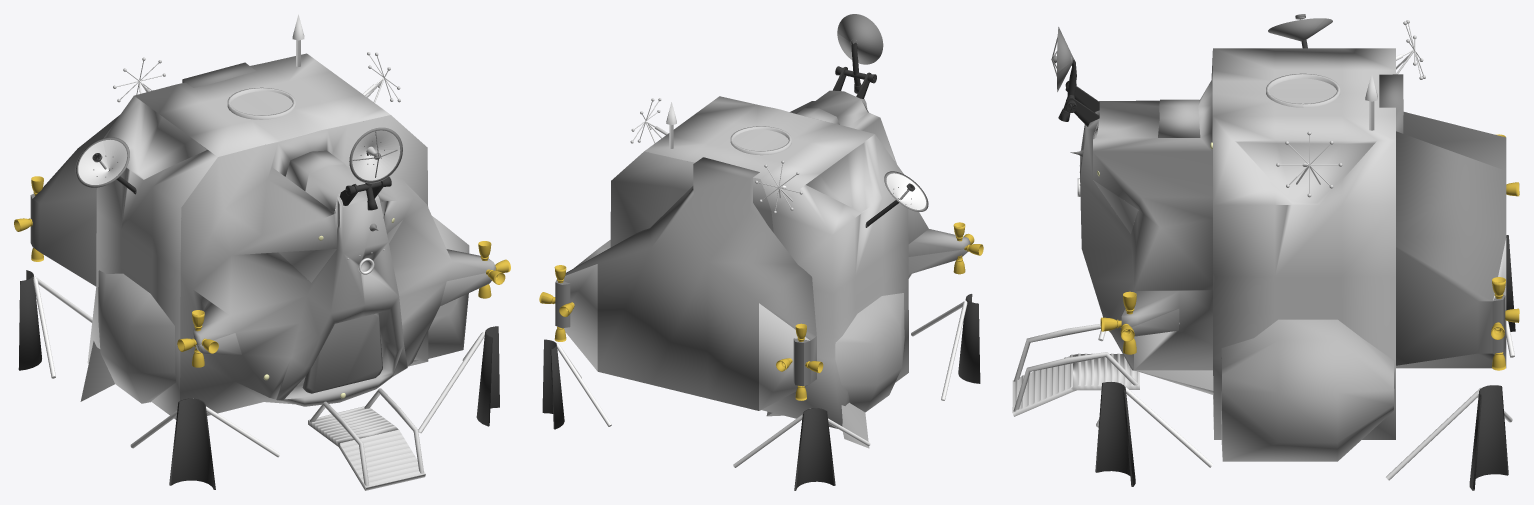
Rendered from lm-ascent.glb.
3 renders of one model, left to right at view 1: azimuth 30°, elevation 25°; view 2: azimuth 150°, elevation 25°; view 3: azimuth 270°, elevation 25°, orthographic. The views are drawn at different scales.
Parts seen in each view (by area): view 1: polySurfac.002, pCylinde10, pCube2, pCube3, pCube27, group75 pP, pCylinder9, group51 g5, group51 14, group75 11, group75 p9, pPipe1.002 (+4 smaller); view 2: polySurfac.002, pCube2, pCylinde10, group75 11, group51 g5, group75 pP, group75 10, group51 14, pCylinder5.002, pCylinder4.002, pPipe1.002, pCylinder8; view 3: polySurfac.002, pCube2, pCylinder9, pCube3, group75 p9, group75 10, pCylinder2.002, group51 14, pPipe1.002, group75 p3, pCylinde11, group75 p2 (+2 smaller).
Part boxes in pixels (<box>): polySurfac.002: <box>87,53,495,419</box>; pCylinde10: <box>80,270,175,403</box>; pCube2: <box>32,62,256,286</box>; pCube3: <box>308,406,425,490</box>; pCube27: <box>302,313,382,393</box>; group75 pP: <box>169,398,215,489</box>; pCylinder9: <box>413,216,469,361</box>; group51 g5: <box>349,127,402,183</box>; group51 14: <box>75,137,129,187</box>; group75 11: <box>18,270,41,370</box>; group75 p9: <box>476,326,499,426</box>; pPipe1.002: <box>227,87,295,119</box>; polySurfac.002: <box>610,90,970,428</box>; pCube2: <box>563,157,816,410</box>; pCylinde10: <box>766,293,905,448</box>; group75 11: <box>794,408,835,490</box>; group51 g5: <box>837,14,883,64</box>; group75 pP: <box>958,294,980,383</box>; group75 10: <box>542,339,564,429</box>; group51 14: <box>884,171,928,211</box>; pCylinder5.002: <box>793,338,810,386</box>; pCylinder4.002: <box>555,279,570,328</box>; pPipe1.002: <box>730,126,791,155</box>; pCylinder8: <box>941,301,967,400</box>; polySurfac.002: <box>1080,48,1395,439</box>; pCube2: <box>1379,74,1506,368</box>; pCylinder9: <box>1221,319,1394,461</box>; pCube3: <box>1012,353,1139,416</box>; group75 p9: <box>1095,382,1135,486</box>; group75 10: <box>1469,385,1508,490</box>; pCylinder2.002: <box>1013,352,1138,411</box>; group51 14: <box>1268,18,1332,41</box>; pPipe1.002: <box>1266,73,1340,107</box>; group75 p3: <box>1386,388,1480,480</box>; pCylinde11: <box>1013,323,1110,381</box>; group75 p2: <box>1121,383,1213,467</box>.
Size of the model in its own units: 3.37 by 2.92 by 3.59.
